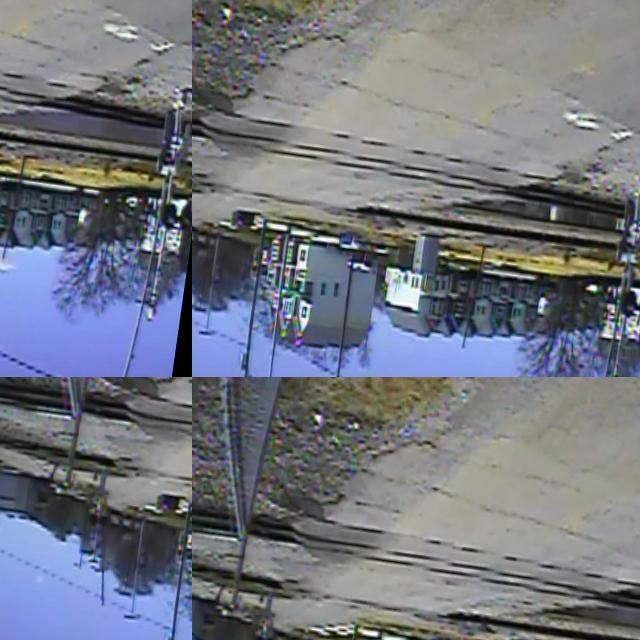barrier: (103, 227, 172, 377), (560, 325, 632, 377), (85, 535, 122, 611), (0, 155, 17, 241), (192, 251, 210, 327)
car: (228, 200, 260, 240), (153, 484, 185, 524)
rails: (192, 94, 640, 238), (192, 144, 640, 288), (192, 505, 640, 631), (192, 547, 640, 640), (0, 378, 192, 522), (0, 428, 192, 572), (0, 49, 192, 192), (0, 2, 192, 144)
traffic-signal: (152, 90, 192, 238), (603, 176, 640, 330), (84, 466, 120, 536), (247, 578, 286, 640), (0, 85, 19, 159), (192, 182, 210, 252)
